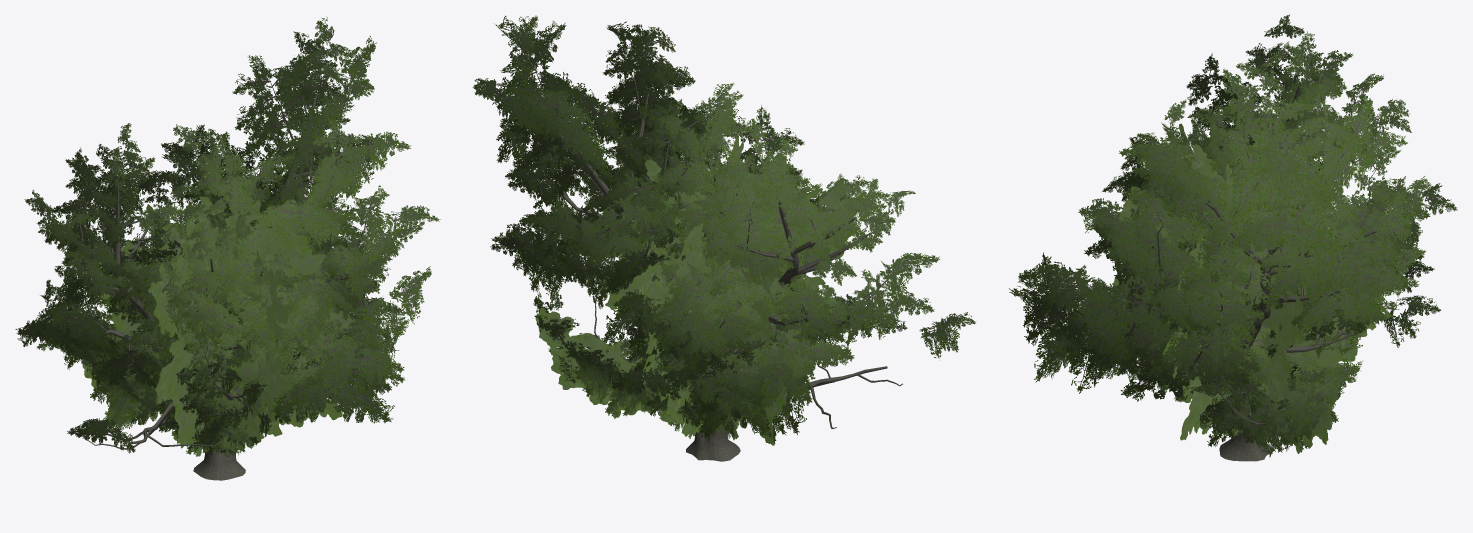
Rendered from cay-soi.glb.
3 renders of one model, left to right at view 1: azimuth 30°, elevation 25°; view 2: azimuth 150°, elevation 25°; view 3: azimuth 270°, elevation 25°, orthographic. The views are drawn at different scales.
Parts seen in each view (by area): view 1: da_g_la, da_x_la, to3_b_bang, to3_g_la, to1_g_la, to3_x_la, to1_b_bang, to1_x_la, bode_g_la, bode_x_la, da_g_than, da_x_than (+4 smaller); view 2: da_g_la, da_x_la, to3_b_bang, to3_g_la, to3_x_la, to1_b_bang, to1_g_la, to1_x_la, da_g_than, da_x_than, bode_g_la, bode_x_la (+2 smaller); view 3: da_g_la, da_x_la, to1_b_bang, to1_g_la, to3_b_bang, to3_g_la, to1_x_la, to3_x_la, da_g_than, da_x_than, bode_x_la, bode_g_la (+4 smaller).
Part boxes in pixels (left/top/right/bottom): da_g_la: left=16, top=20, right=440, bottom=452; da_x_la: left=15, top=16, right=439, bottom=453; to3_b_bang: left=82, top=191, right=363, bottom=448; to3_g_la: left=62, top=180, right=360, bottom=429; to1_g_la: left=73, top=197, right=366, bottom=444; to3_x_la: left=63, top=180, right=363, bottom=430; to1_b_bang: left=103, top=192, right=366, bottom=440; to1_x_la: left=64, top=199, right=353, bottom=444; bode_g_la: left=73, top=200, right=363, bottom=407; bode_x_la: left=70, top=207, right=361, bottom=408; da_g_than: left=62, top=80, right=369, bottom=480; da_x_than: left=58, top=82, right=368, bottom=480; da_g_la: left=472, top=15, right=975, bottom=407; da_x_la: left=474, top=16, right=975, bottom=408; to3_b_bang: left=584, top=158, right=845, bottom=445; to3_g_la: left=580, top=155, right=854, bottom=441; to3_x_la: left=579, top=154, right=854, bottom=443; to1_b_bang: left=535, top=136, right=865, bottom=436; to1_g_la: left=534, top=150, right=868, bottom=423; to1_x_la: left=538, top=146, right=854, bottom=424; da_g_than: left=527, top=61, right=902, bottom=460; da_x_than: left=535, top=93, right=887, bottom=461; bode_g_la: left=533, top=148, right=866, bottom=390; bode_x_la: left=534, top=145, right=868, bottom=385; da_g_la: left=1009, top=15, right=1456, bottom=408; da_x_la: left=1009, top=14, right=1457, bottom=410; to1_b_bang: left=1095, top=121, right=1357, bottom=453; to1_g_la: left=1093, top=121, right=1361, bottom=456; to3_b_bang: left=1089, top=141, right=1414, bottom=448; to3_g_la: left=1117, top=132, right=1406, bottom=449; to1_x_la: left=1092, top=126, right=1361, bottom=456; to3_x_la: left=1105, top=134, right=1412, bottom=451; da_g_than: left=1096, top=64, right=1381, bottom=461; da_x_than: left=1097, top=83, right=1376, bottom=461; bode_x_la: left=1090, top=116, right=1362, bottom=406; bode_g_la: left=1092, top=118, right=1358, bottom=404.
Size of the model in its own units: 28.47 by 28.13 by 25.78.
3 materials, 3 textured.
